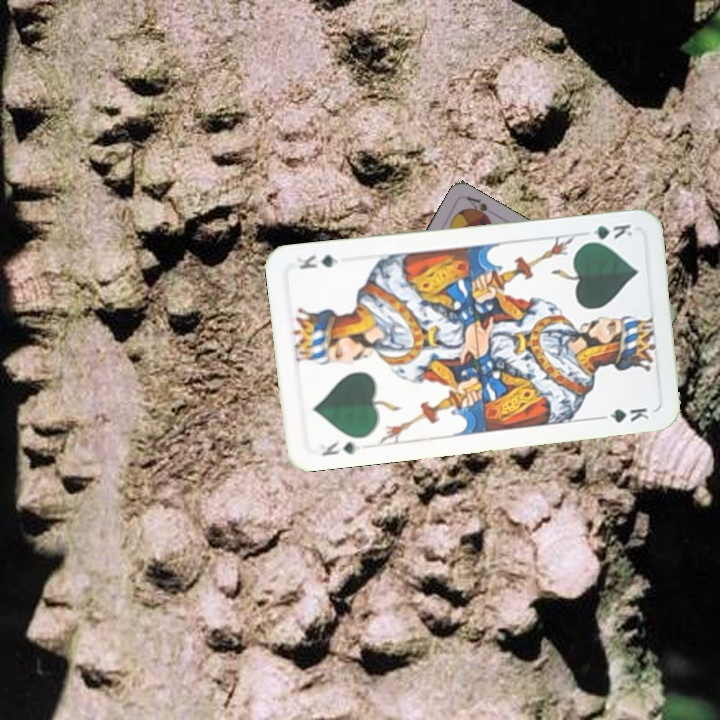GK: (579, 220, 635, 246), (318, 437, 364, 459)
